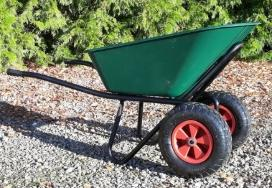BROUETTE: (4, 18, 264, 178)
